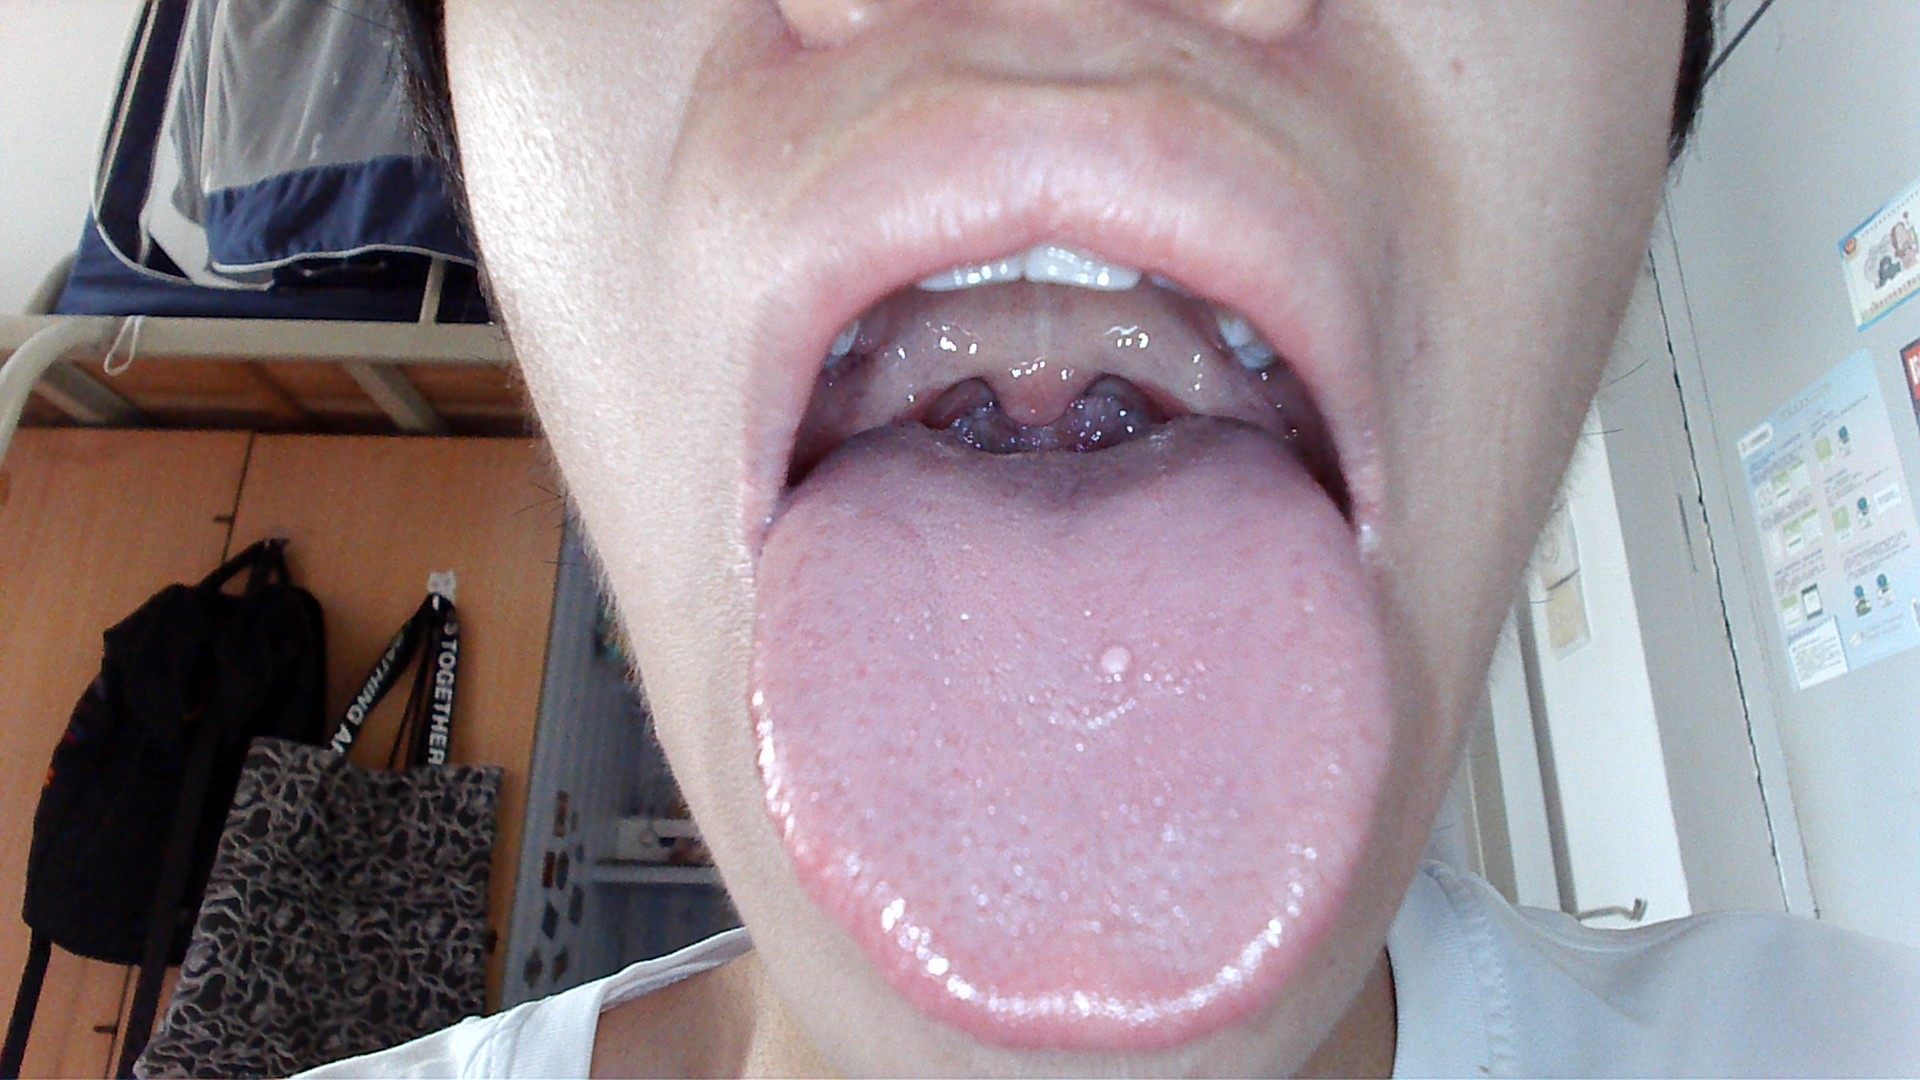throat: (1130, 348, 1222, 419), (862, 348, 949, 419)
